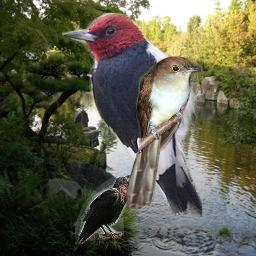Crow: (75, 174, 137, 244)
Cuckoo: (126, 55, 201, 209)
Woodpecker: (62, 13, 202, 217)
